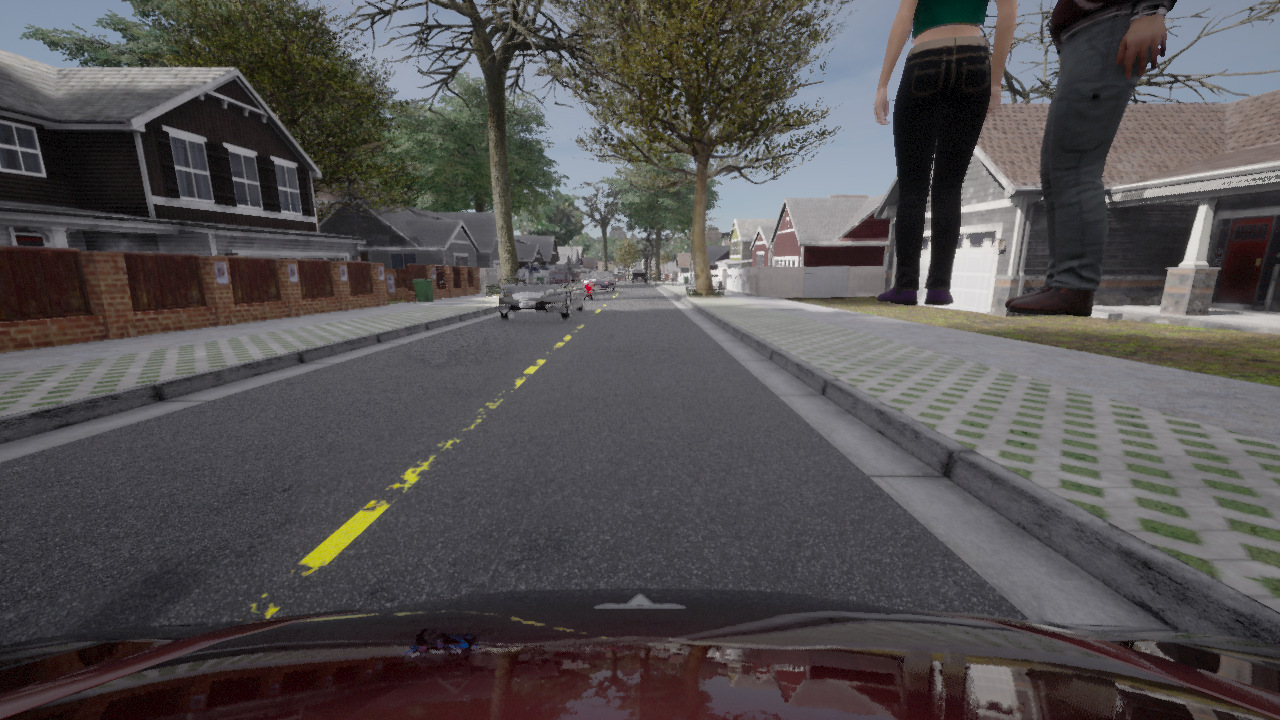cyclist: (0, 588, 1279, 719), (498, 264, 585, 319), (576, 270, 594, 300), (590, 270, 615, 291), (631, 268, 648, 283), (634, 280, 644, 282)
pedestrian: (1005, 0, 1178, 316), (875, 0, 1017, 305)
